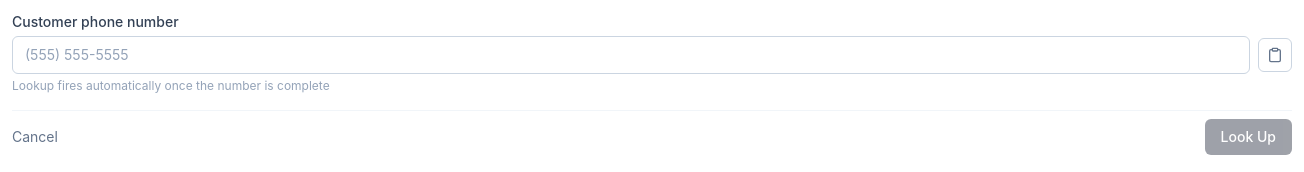
Test: LookupGate phone formatting › normalizes a formatted paste with a +1 prefix
The image size is (1304, 172).
Click the field labelled "Customer phone number" at coordinates (631, 55), box top-left (12, 36), bottom-right (1250, 74)
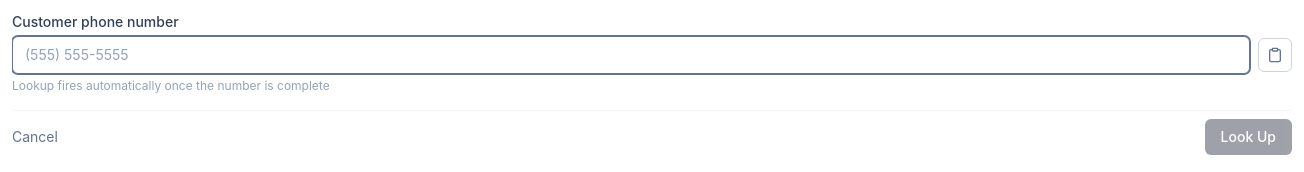
Type keys "+1 (555) 555-5555"
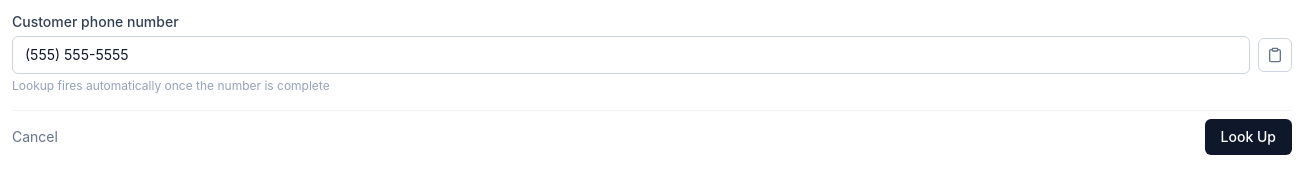
Now the field labelled "Customer phone number" holds "(555) 555-5555", box top-left (12, 36), bottom-right (1250, 74)
